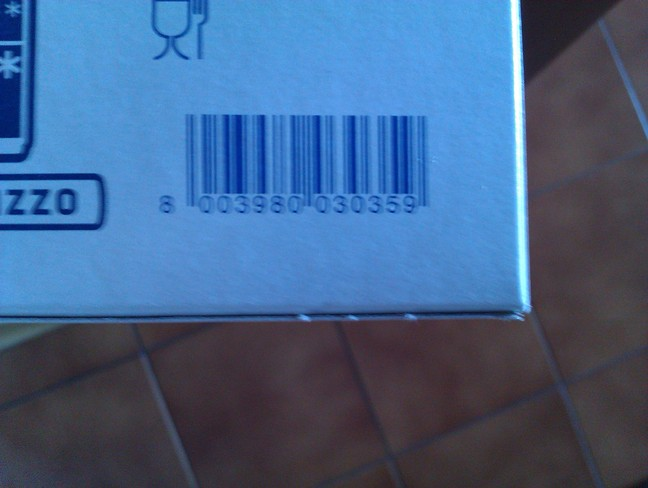detection: (150, 99, 445, 232)
